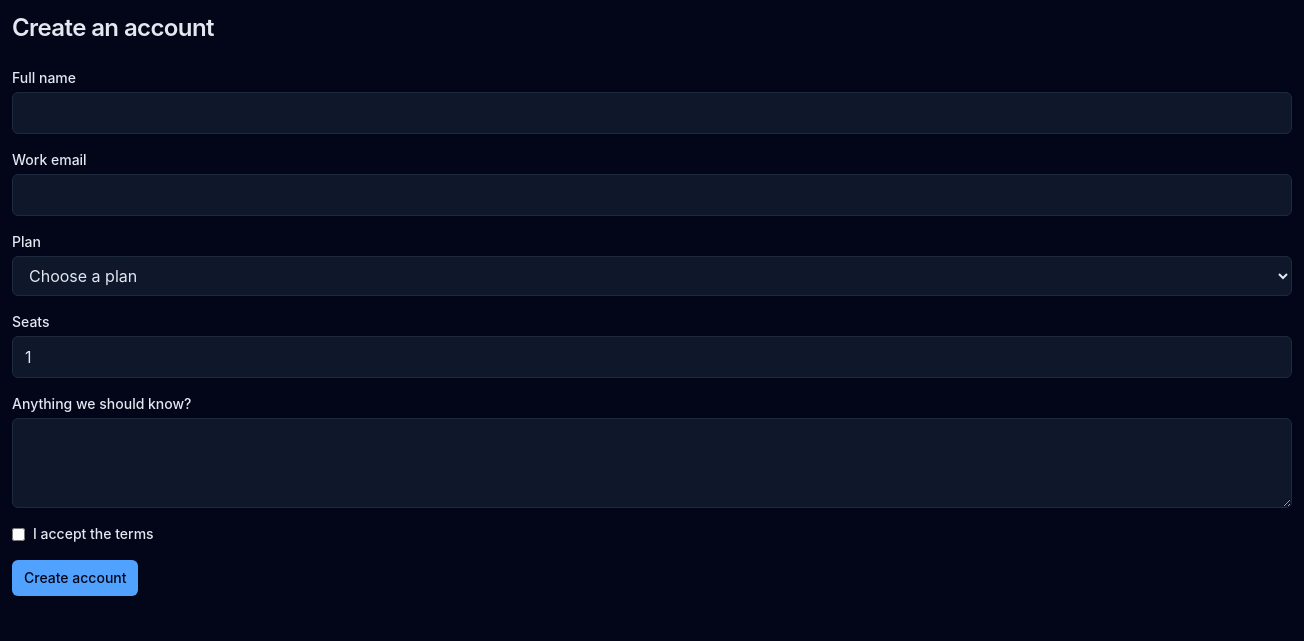
Test: SignupPage › refuses a cleared seats field rather than confirming NaN seats
Type "Dana Whitfield" into the field with test id "full-name-input" at [652, 113], box [12, 92, 1292, 134]
Type "dana.whitfield@example.com" into the field with test id "email-input" at [652, 195], box [12, 174, 1292, 216]
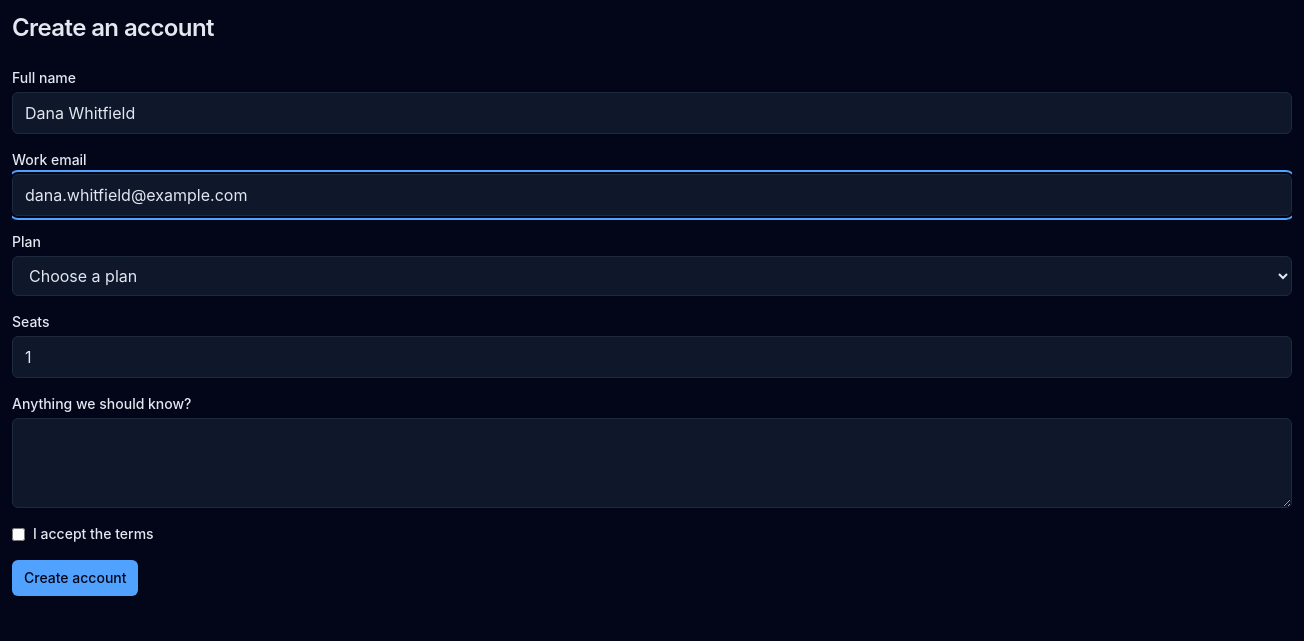
Select "Growth" in the dropdown with test id "plan-select" at [652, 276], box [12, 256, 1292, 296]
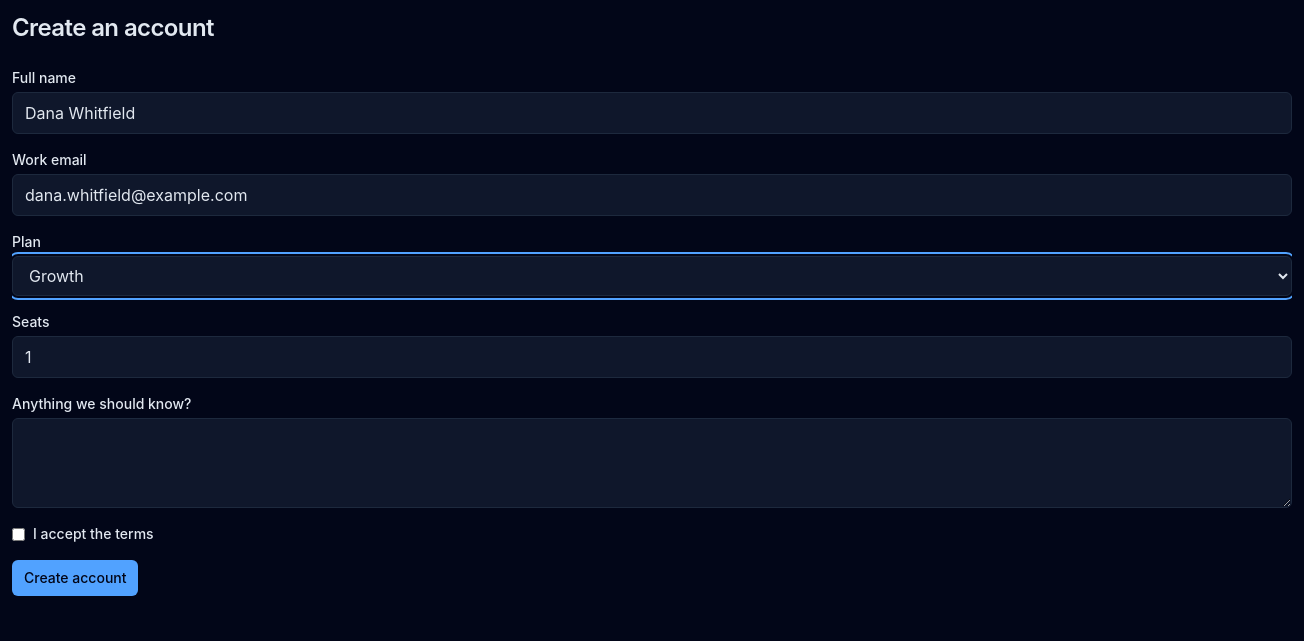
Replace the text in the number field with test id "seats-input" with "12" at [652, 357], box [12, 336, 1292, 378]
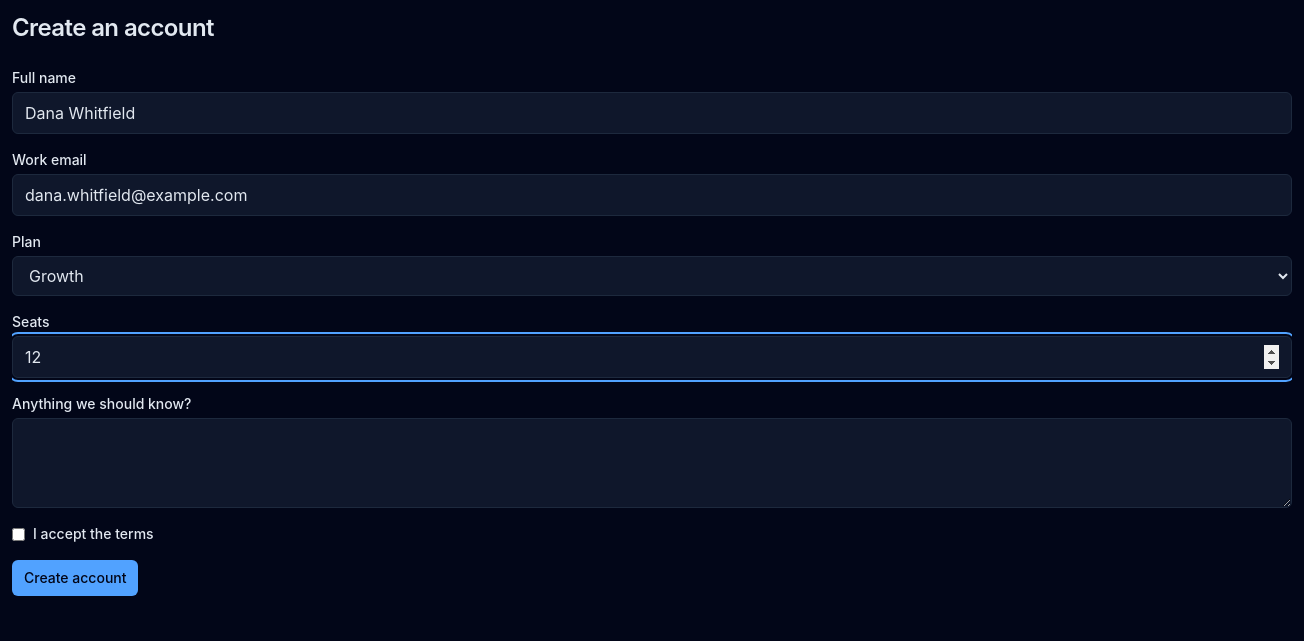
Click the checkbox with test id "terms-checkbox" at [18, 534], box [12, 528, 25, 540]
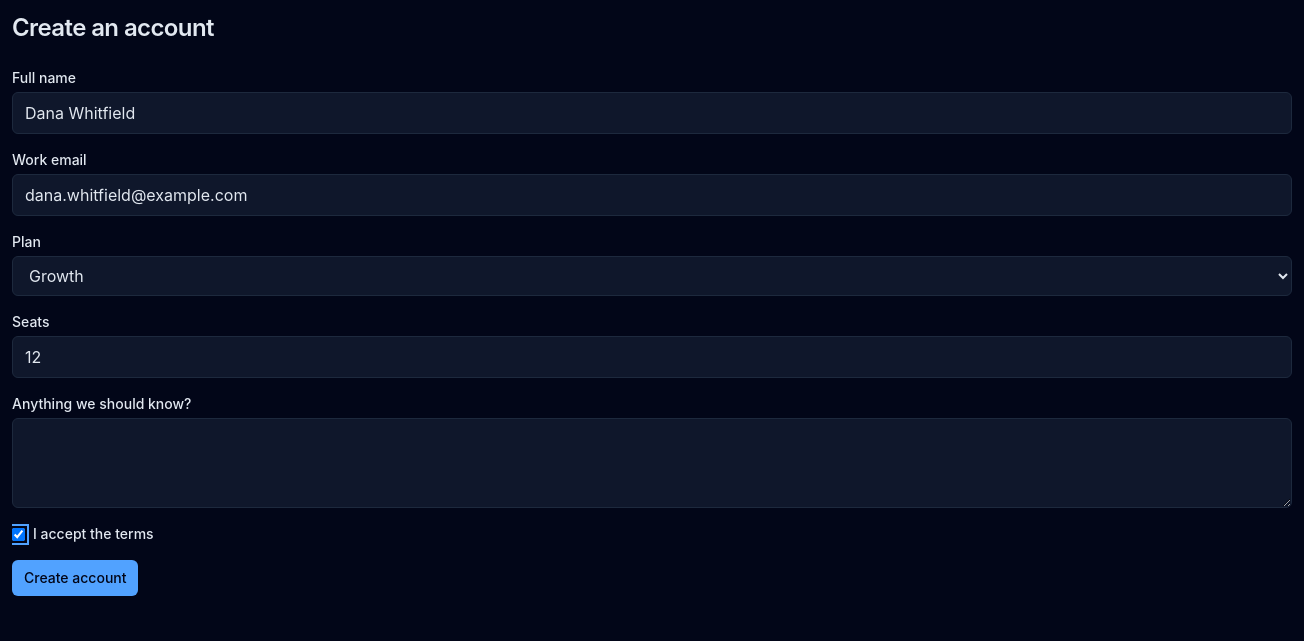
Clear the number field with test id "seats-input" at [652, 357], box [12, 336, 1292, 378]
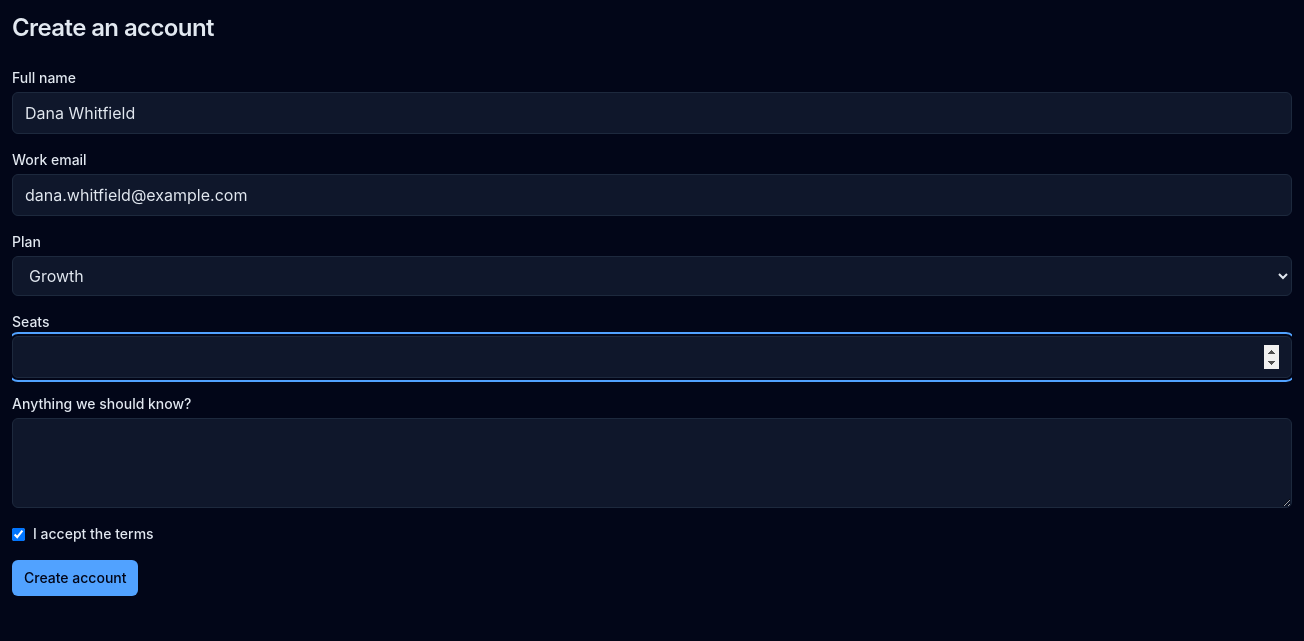
Click the button with test id "submit-button" at [75, 578], box [12, 560, 138, 596]
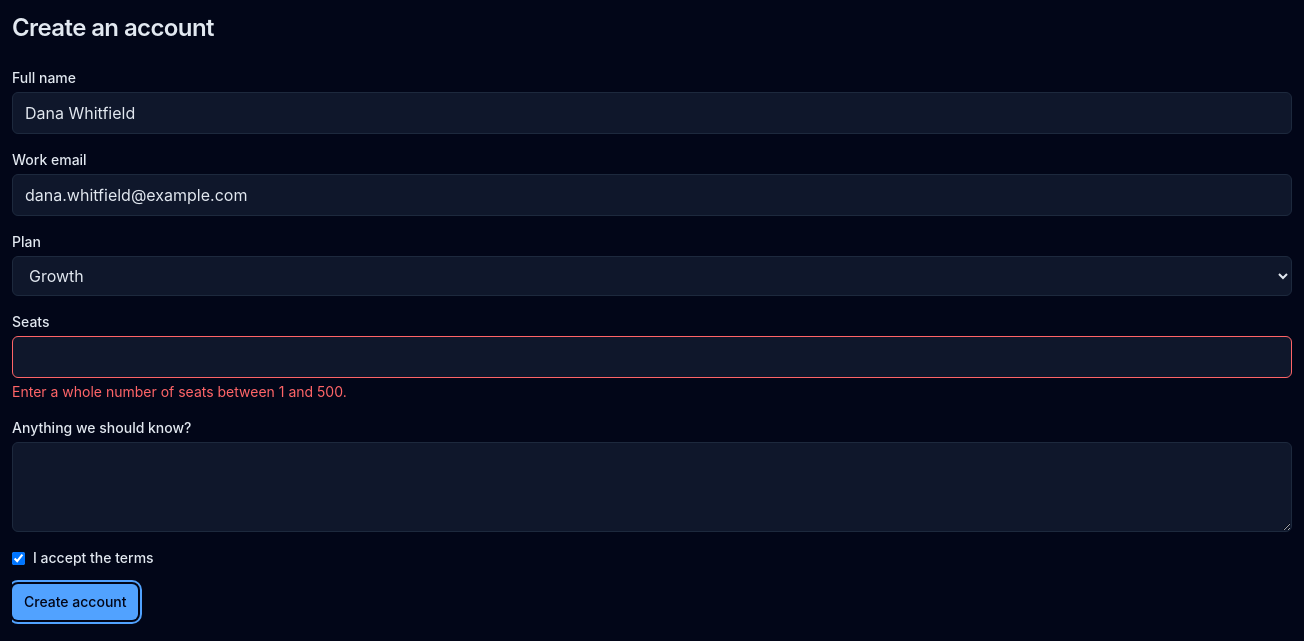
Now the text "Enter a whole number of seats between 1 and 500." is shown, box [12, 383, 347, 400]
